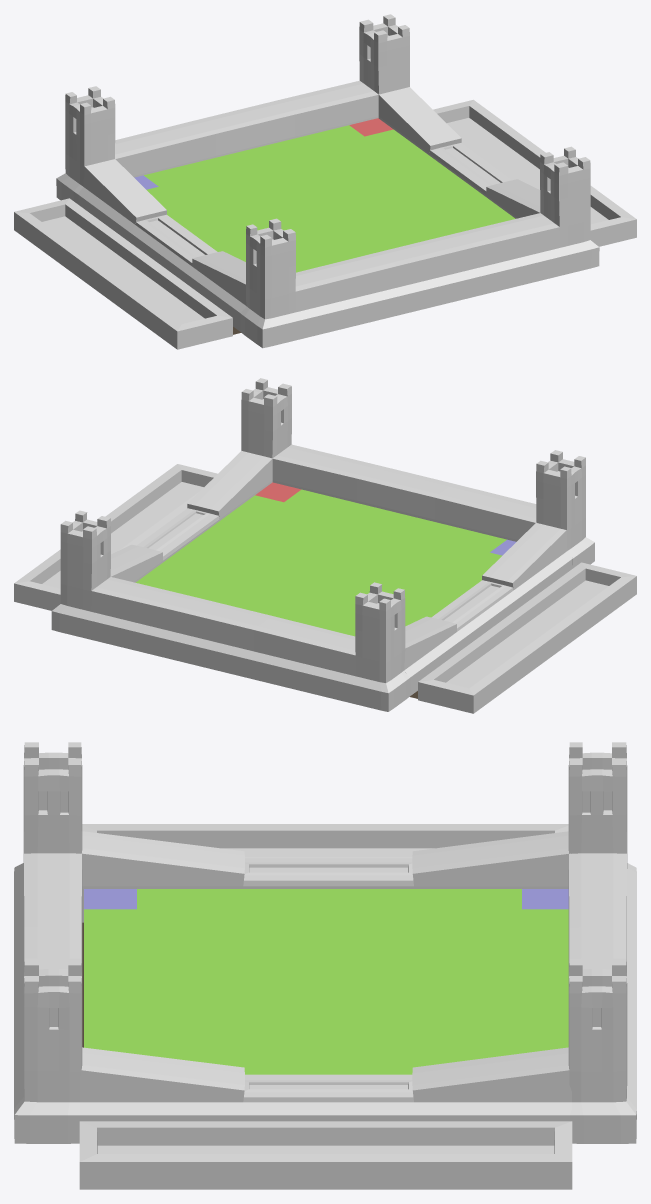
Rendered from Gameboard.fbx.
3 views of the same model, one above another, from view 1: azimuth 30°, elevation 25°; view 2: azimuth 150°, elevation 25°; view 3: azimuth 270°, elevation 25° (orthographic). The views are drawn at different scales.
Visible parts, largest first — view 1: Cube, SideWall2.001, Castle Pockets, SideWall2, ShootWall1, ShootWall2; view 2: Cube, SideWall2, Castle Pockets, SideWall2.001, ShootWall1, ShootWall2; view 3: Cube, Castle Pockets, ShootWall2, SideWall2.001, SideWall2, ShootWall1.
Boxes of the visible parts, x1,y1,x2,y2 form: Cube: (134, 118, 515, 272); SideWall2.001: (240, 146, 599, 348); Castle Pockets: (14, 99, 636, 349); SideWall2: (56, 14, 409, 204); ShootWall1: (78, 159, 246, 331); ShootWall2: (378, 87, 540, 218); Cube: (135, 482, 515, 636); SideWall2: (51, 510, 410, 711); Castle Pockets: (14, 464, 636, 713); SideWall2.001: (241, 378, 594, 568); ShootWall1: (404, 522, 572, 695); ShootWall2: (110, 451, 272, 582); Cube: (84, 889, 568, 1074); Castle Pockets: (79, 824, 572, 1189); ShootWall2: (80, 1047, 571, 1121); SideWall2.001: (14, 742, 82, 1143); SideWall2: (568, 742, 636, 1143); ShootWall1: (80, 831, 571, 922).
Bounding box in the file's own units: 8038 × 1779 × 6263.
